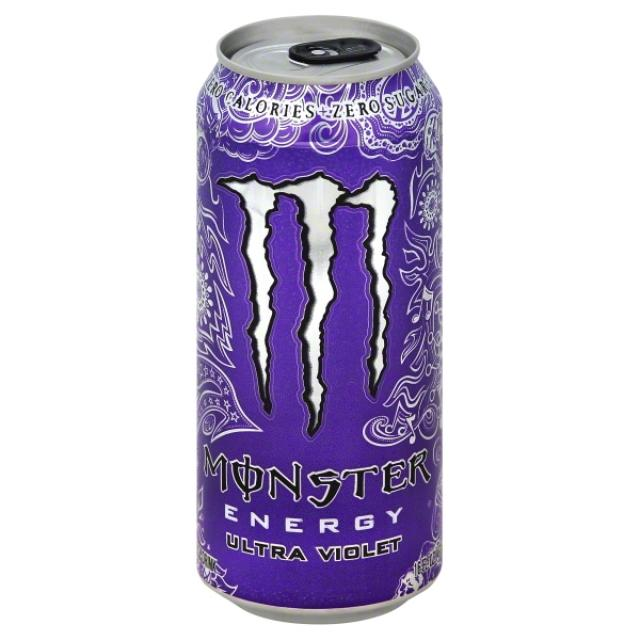Cans: (190, 8, 453, 629)
